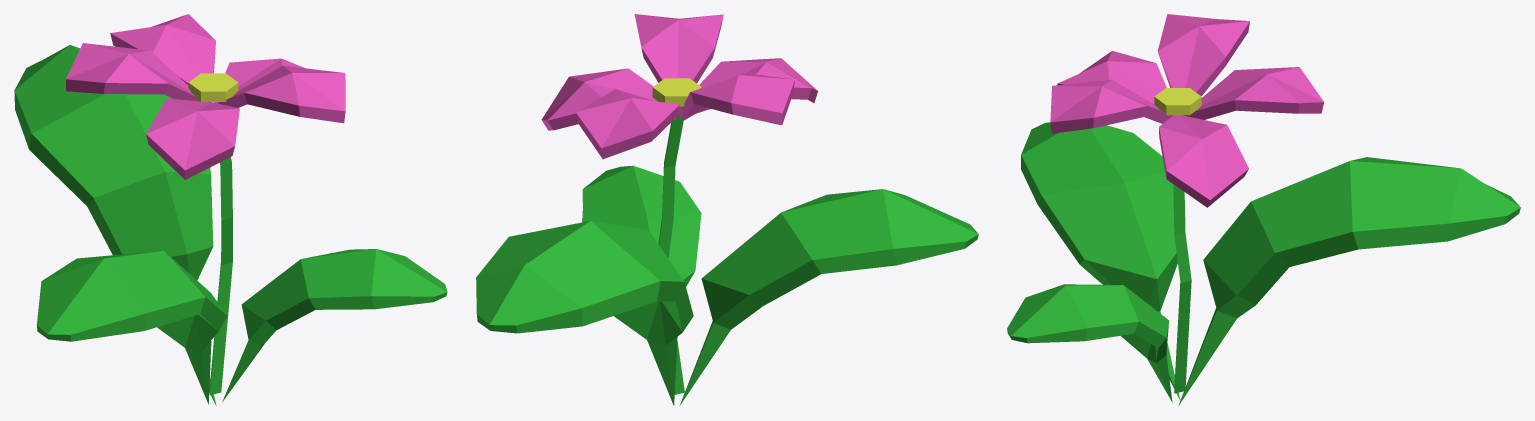
File: flower.fbx
3 renders of one model, left to right at view 1: azimuth 30°, elevation 25°; view 2: azimuth 150°, elevation 25°; view 3: azimuth 270°, elevation 25°, orthographic. The views are drawn at different scales.
Parts seen in each view (by area): view 1: Tree.064; view 2: Tree.064; view 3: Tree.064.
Part boxes in pixels (box(x1,y1,x2,y2)): Tree.064: box(14, 14, 447, 405); Tree.064: box(476, 14, 978, 405); Tree.064: box(1007, 14, 1520, 405).
Bounding box in the file's own units: 224 × 200 × 270.
